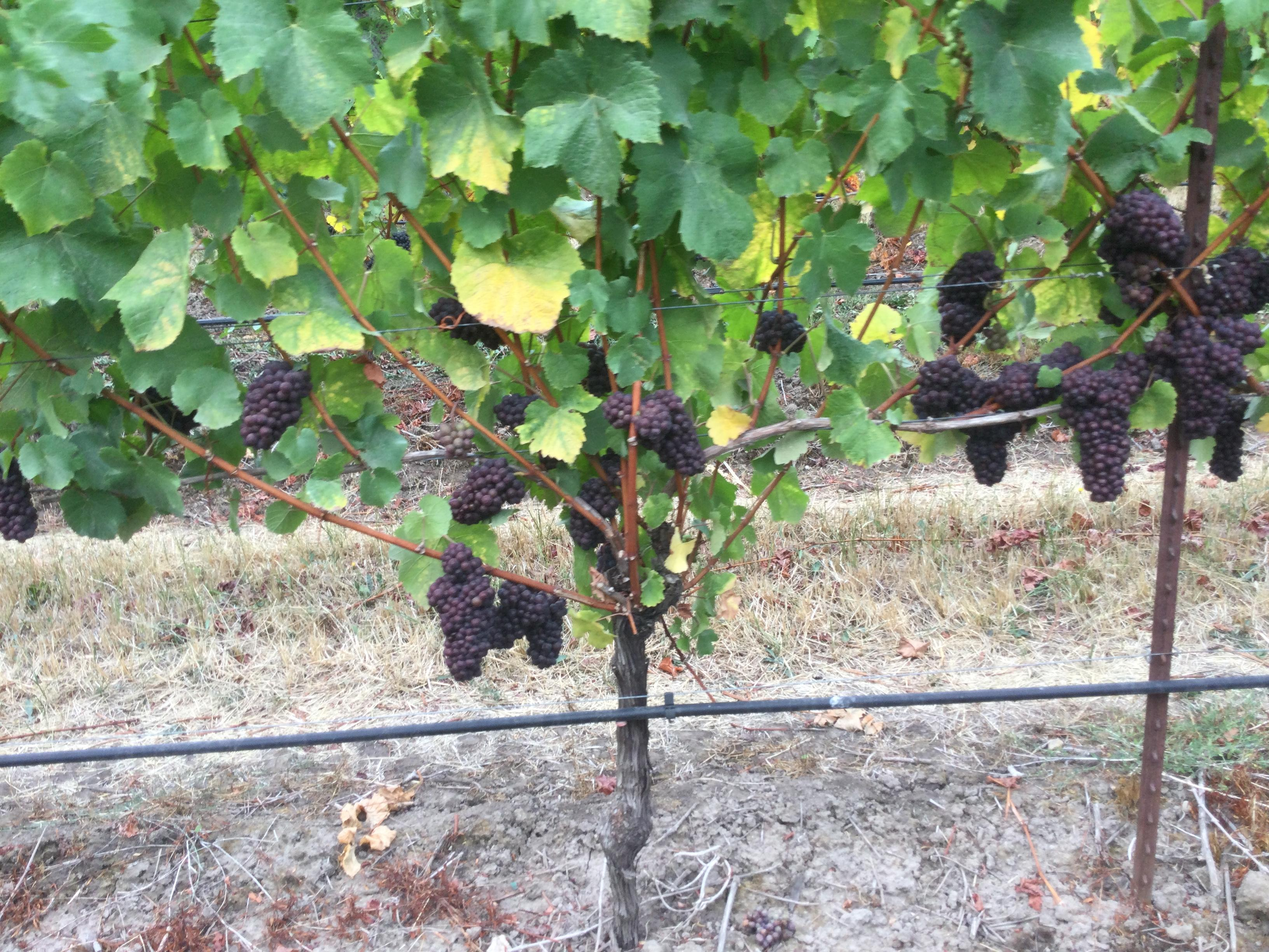leaf: (521, 38, 661, 200), (958, 0, 1092, 142), (632, 112, 757, 260), (416, 47, 521, 192), (259, 0, 372, 133), (449, 229, 581, 332), (103, 225, 192, 350), (0, 139, 93, 234), (788, 214, 875, 299), (213, 0, 290, 79), (826, 388, 901, 466), (167, 89, 240, 169), (648, 31, 702, 125), (376, 123, 428, 208), (739, 61, 805, 127), (516, 400, 584, 464), (172, 366, 241, 428), (231, 221, 297, 285), (751, 452, 808, 523), (762, 136, 829, 195), (564, 0, 651, 42), (17, 434, 81, 489), (59, 486, 125, 539), (1129, 380, 1176, 429), (850, 302, 902, 343), (707, 405, 751, 445), (358, 467, 400, 506), (299, 478, 348, 510), (264, 500, 306, 534), (641, 493, 674, 527), (561, 10, 565, 12)
